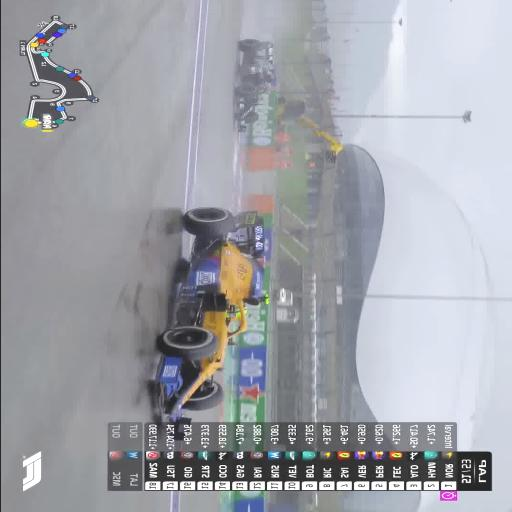f1_car: (155, 207, 264, 441), (235, 39, 276, 133)
